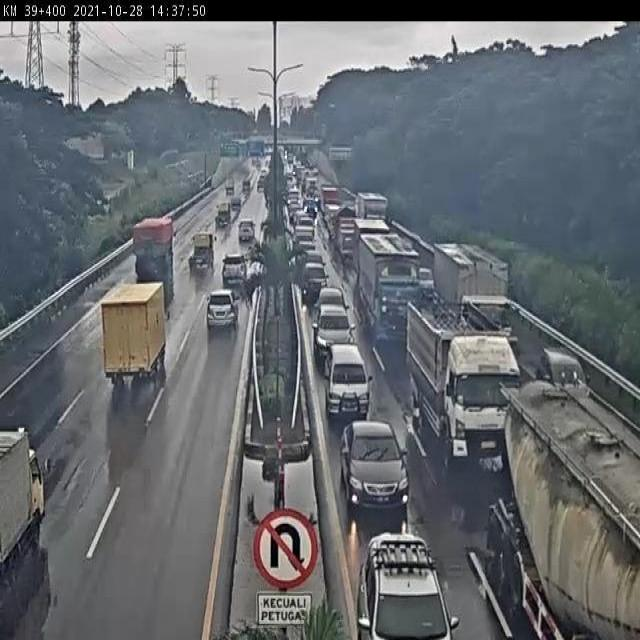big truck: (465, 360, 640, 637), (394, 288, 519, 471), (98, 259, 187, 412), (429, 238, 529, 362), (2, 392, 64, 588), (358, 235, 443, 349), (123, 201, 185, 303)
car: (362, 524, 479, 640), (334, 419, 421, 536), (537, 338, 604, 418), (317, 301, 370, 352), (313, 286, 364, 326), (202, 291, 246, 332), (219, 259, 258, 296), (299, 257, 332, 295), (237, 218, 266, 246), (294, 233, 318, 260)
small bus: (317, 344, 376, 433)
small truck: (188, 228, 220, 279), (204, 200, 232, 236), (218, 161, 241, 196)
